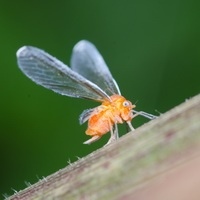insect: (16, 40, 155, 143)
